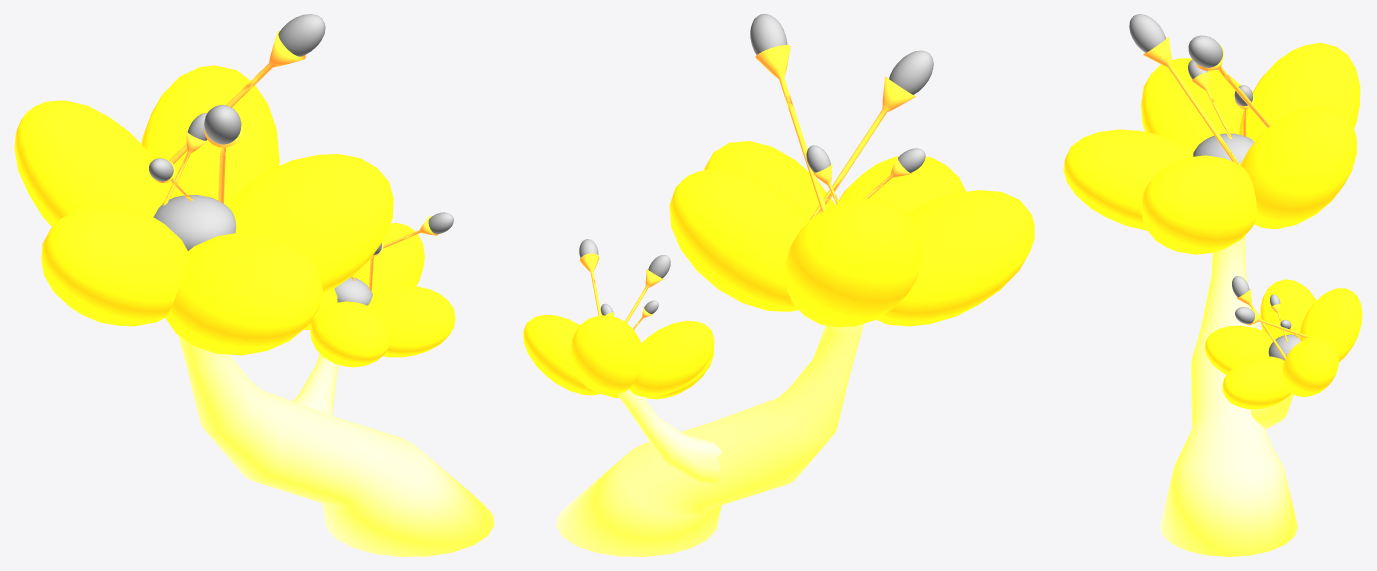
Rendered from flower4.fbx.
3 renders of one model, left to right at view 1: azimuth 30°, elevation 25°; view 2: azimuth 150°, elevation 25°; view 3: azimuth 270°, elevation 25°, orthographic. The views are drawn at different scales.
Visible parts, largest first — view 1: Cylinder.019; view 2: Cylinder.019; view 3: Cylinder.019.
Part boxes in pixels (x1,y1,x2,y2): Cylinder.019: (14,14,494,556); Cylinder.019: (523,14,1034,556); Cylinder.019: (1063,14,1362,556).
Bounding box in the file's own units: 630 × 720 × 439.
